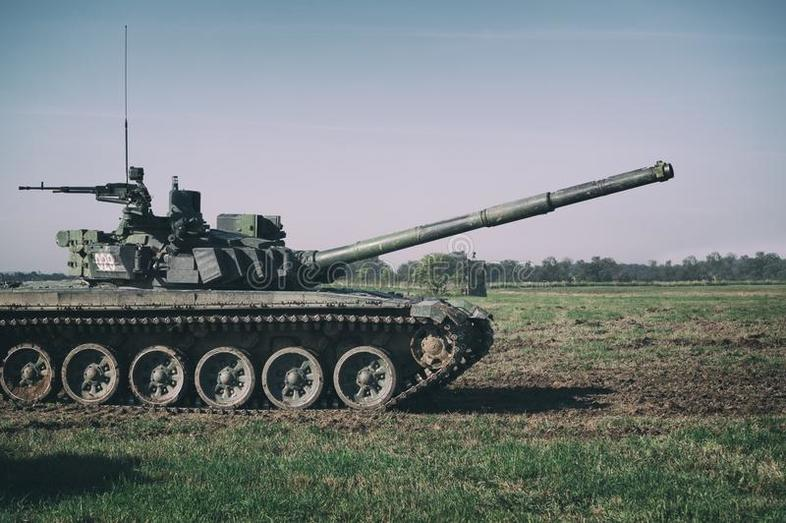t72: (1, 168, 676, 418)
